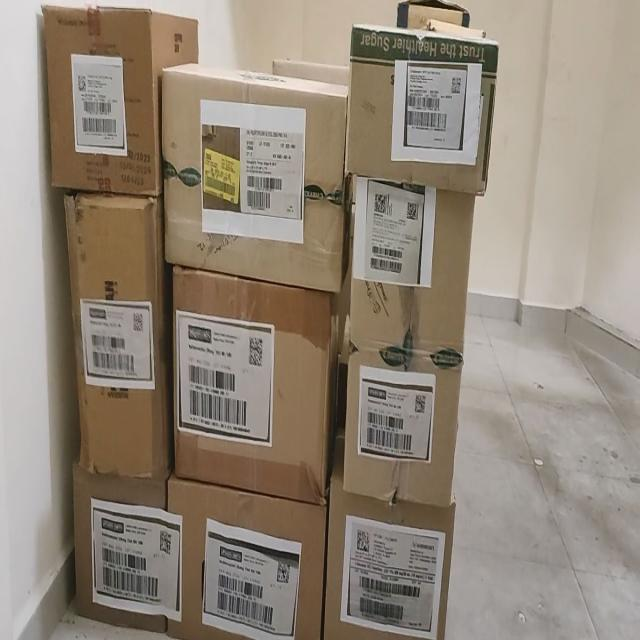BoxFace: (341, 169, 477, 506), (161, 59, 349, 294), (170, 263, 336, 503), (62, 191, 171, 480), (322, 432, 456, 637), (346, 18, 500, 196), (166, 470, 327, 638), (40, 5, 154, 196), (71, 460, 183, 632)
